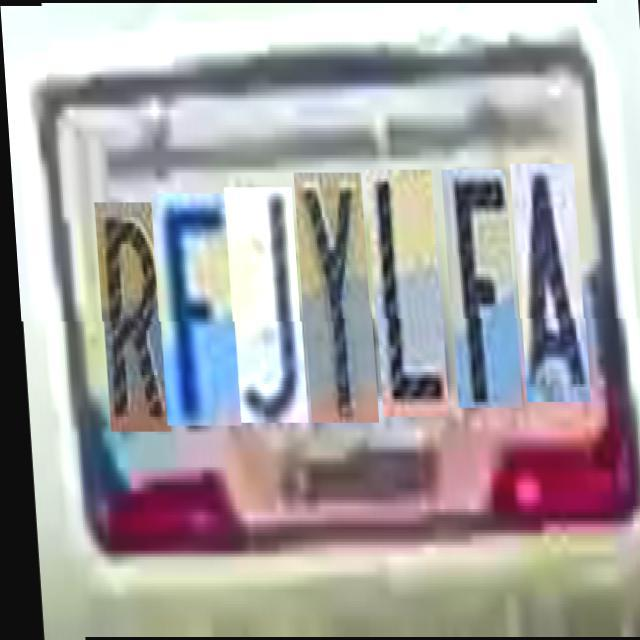A: (510, 164, 586, 402)
F: (150, 194, 236, 426), (441, 170, 516, 408)
J: (224, 188, 302, 422)
L: (366, 170, 444, 416)
R: (93, 202, 165, 432)
Y: (293, 172, 373, 422)
